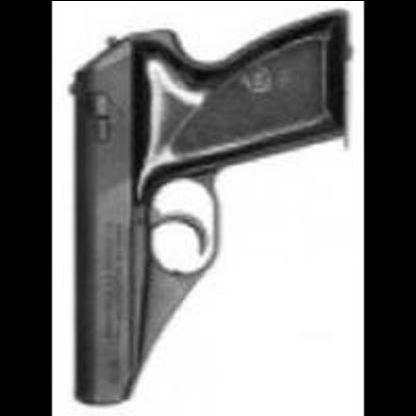weapon: (59, 7, 360, 405)
